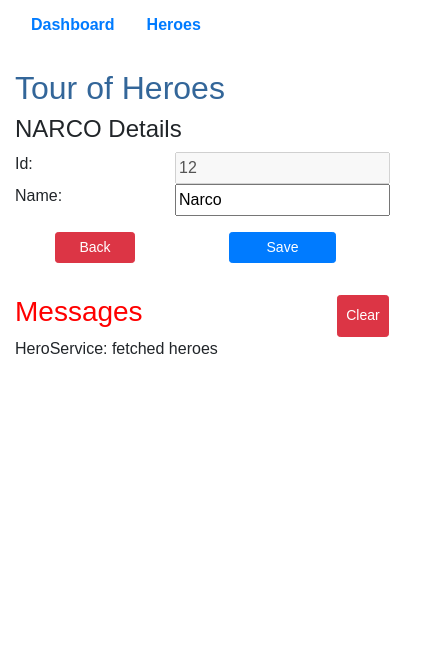
Test: Tour of Heroes - E2E tests › Dashboard tests › can switch to Heroes view
The image size is (431, 672).
Click the link "Heroes": (174, 25) [147,16,201,33]
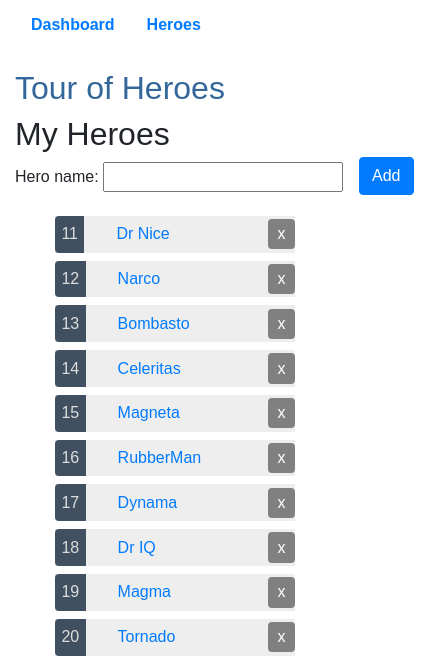
Result: the element that starts with "My Heroes" is shown
Result: the heading "My Heroes" is shown at [15,116,170,152]
